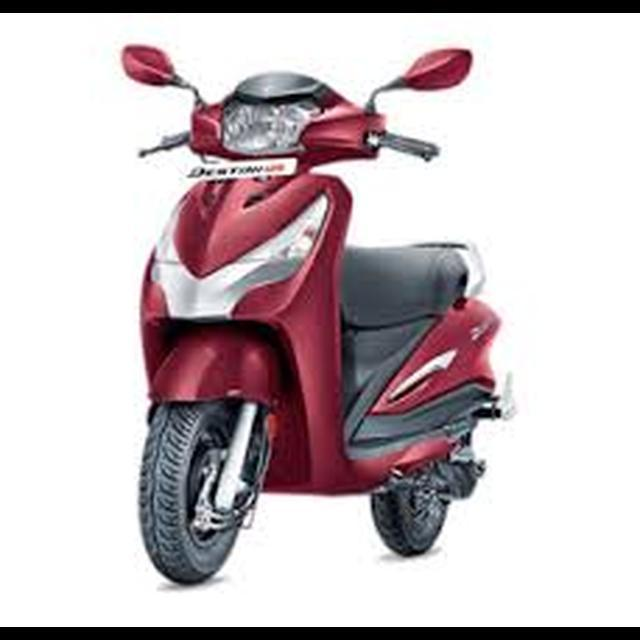motorcycle: (115, 39, 521, 589)
